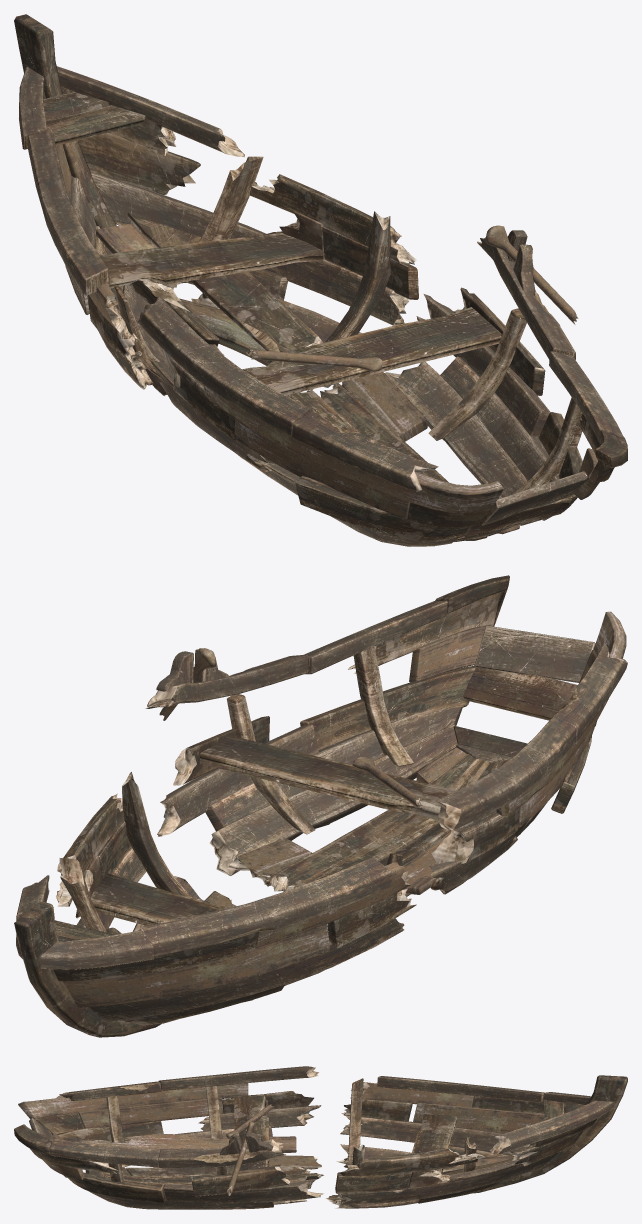
3 views of the same model, one above another, from view 1: azimuth 30°, elevation 25°; view 2: azimuth 150°, elevation 25°; view 3: azimuth 270°, elevation 25° (orthographic). The views are drawn at different scales.
Visible parts, largest first — view 1: SM_Village_Boat_v2_LOD0; view 2: SM_Village_Boat_v2_LOD0; view 3: SM_Village_Boat_v2_LOD0.
Boxes of the visible parts, box(x1,y1,x2,y2) form: SM_Village_Boat_v2_LOD0: box(14, 14, 627, 546); SM_Village_Boat_v2_LOD0: box(14, 575, 627, 1037); SM_Village_Boat_v2_LOD0: box(14, 1066, 627, 1209).
Bounding box in the file's own units: 2.01 × 1.1 × 5.08.
Materials: 1 (1 with a texture image).
